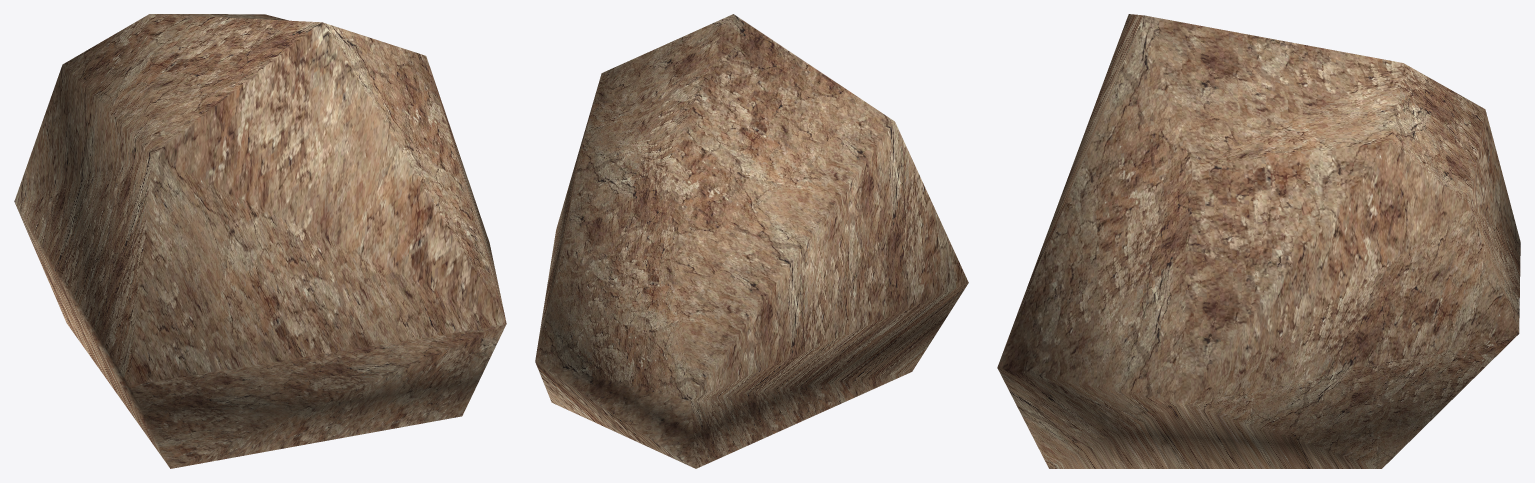
The model's file is rock_tatt_boulder_tan_l4.fbx.
3 views of the same model, side by side, from view 1: azimuth 30°, elevation 25°; view 2: azimuth 150°, elevation 25°; view 3: azimuth 270°, elevation 25° (orthographic). The views are drawn at different scales.
Visible parts, largest first — view 1: mesh_node; view 2: mesh_node; view 3: mesh_node.
Part boxes in pixels (x1=…): mesh_node: x1=14, y1=14, x2=506, y2=468; mesh_node: x1=535, y1=14, x2=968, y2=468; mesh_node: x1=997, y1=14, x2=1520, y2=468.
Size of the model in its own units: 4.91 by 4.87 by 5.09.
